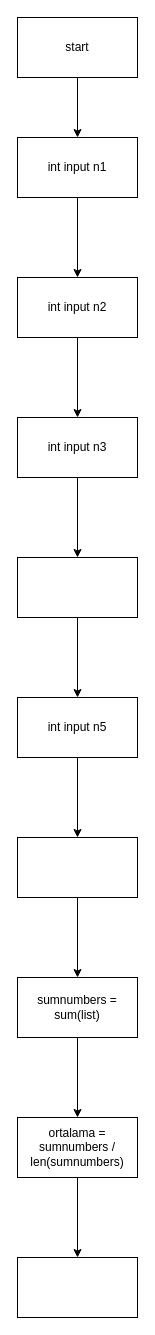
Image size: 155x1335. Some labels were removed from this diagram. Each missing label, with the box of its shape:
int input n4: (16, 556, 138, 618)
list = (n1,n2,n3,n4,n5): (16, 836, 138, 898)
print ortalama: (16, 1256, 138, 1318)
